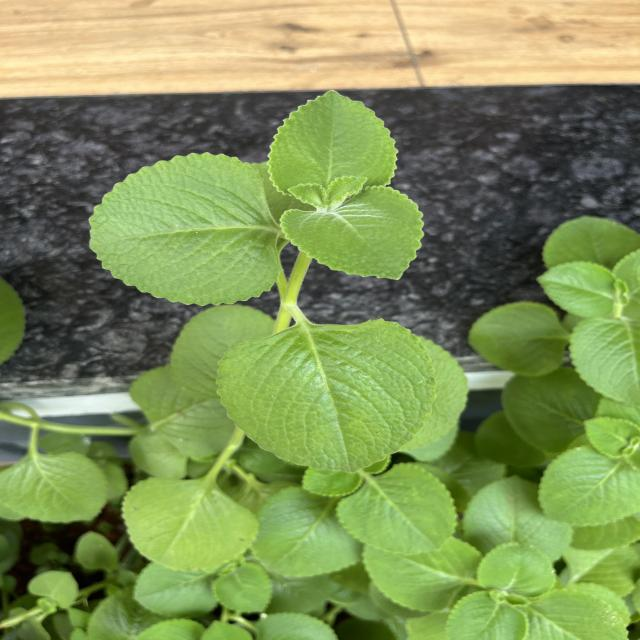Plectranthus barbatus: (214, 316, 438, 475), (86, 151, 281, 308), (266, 89, 400, 200), (278, 185, 426, 282), (120, 474, 261, 574), (334, 461, 459, 556), (461, 473, 574, 564), (256, 484, 362, 578), (361, 534, 484, 612), (537, 442, 640, 528), (466, 300, 569, 379), (0, 450, 111, 523), (475, 540, 557, 598)
